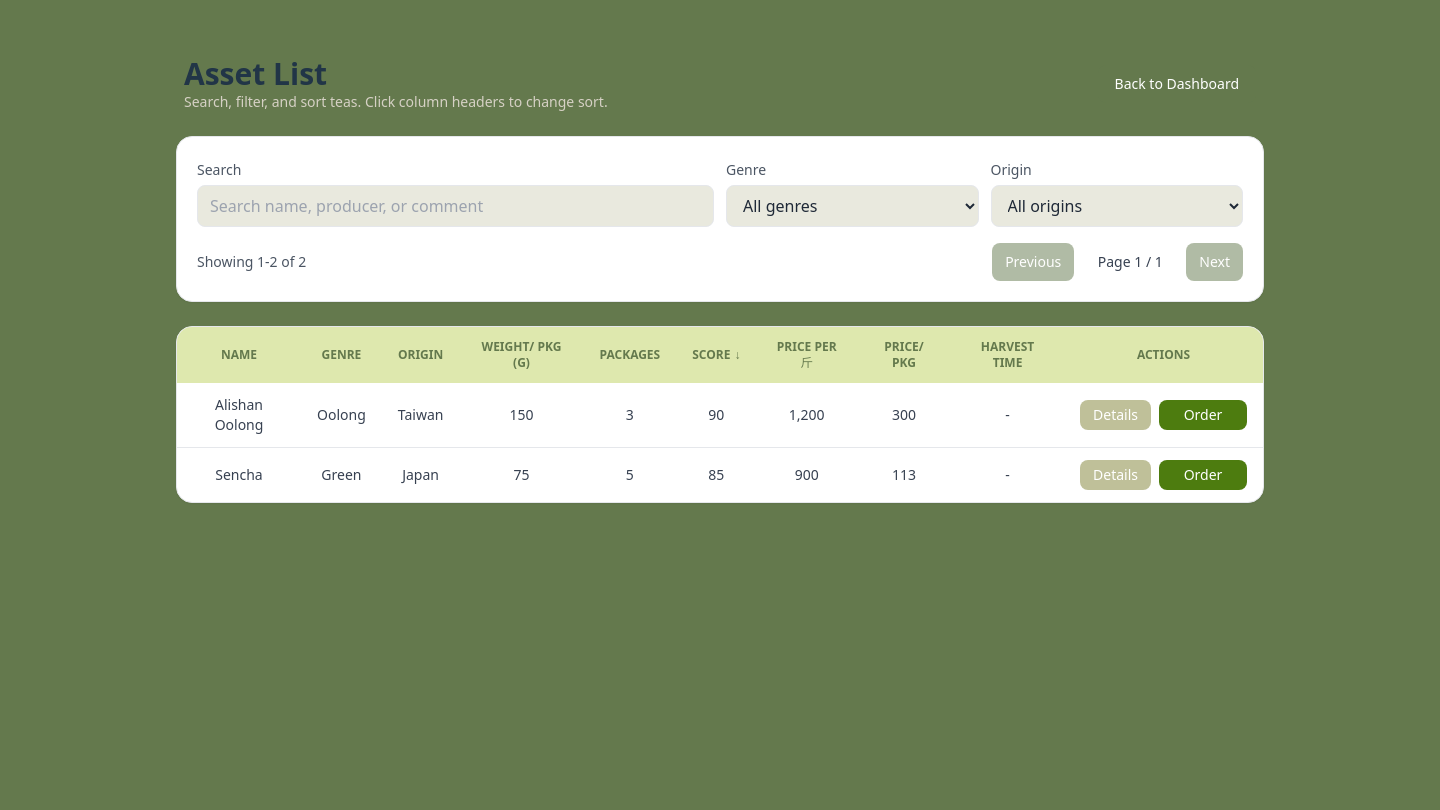
it: AssetList › shows owner and timestamps as read-only details
The width and height of the screenshot is (1440, 810).
Expected: the text "Alishan Oolong" is shown, x1=177 y1=383 x2=301 y2=448
Click the button "Details" in the row of "Alishan Oolong" at (1116, 415), box x1=1080 y1=400 x2=1151 y2=430
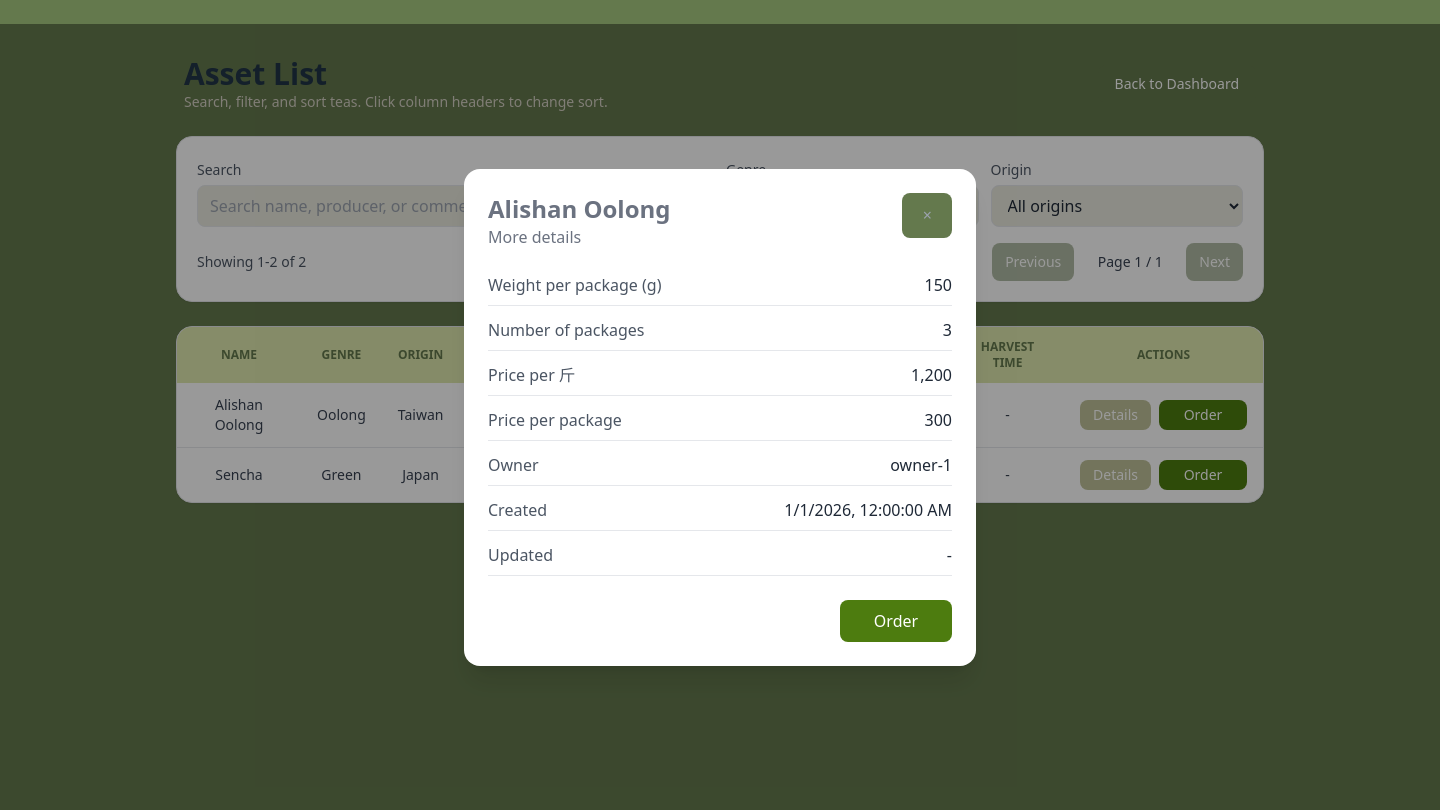
Result: the text "Owner" is shown at x1=488 y1=452 x2=539 y2=476
Result: the text "owner-1" is shown at x1=890 y1=452 x2=952 y2=476
Result: the text "Created" is shown at x1=488 y1=498 x2=547 y2=522
